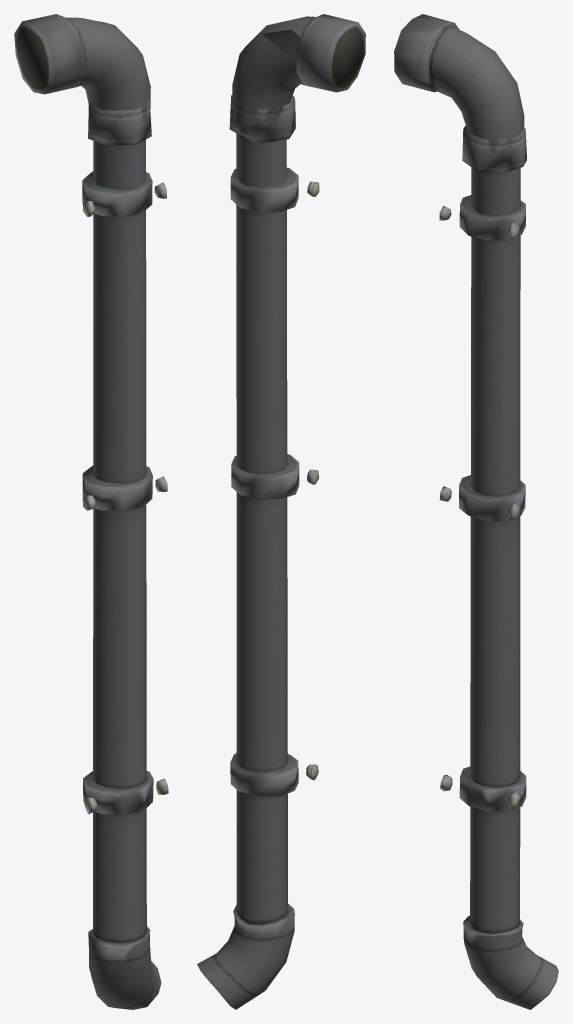
The model's file is rain-downpipe.glb.
3 renders of one model, left to right at view 1: azimuth 30°, elevation 25°; view 2: azimuth 150°, elevation 25°; view 3: azimuth 330°, elevation 25°, orthographic. The views are drawn at different scales.
Visible parts, largest first — view 1: meshy-rain-downpipe; view 2: meshy-rain-downpipe; view 3: meshy-rain-downpipe.
Boxes of the visible parts, box(x1,y1,x2,y2) form: meshy-rain-downpipe: box(14, 14, 168, 1009); meshy-rain-downpipe: box(197, 14, 365, 1009); meshy-rain-downpipe: box(394, 14, 558, 1009).
Size of the model in its own units: 0.5872 by 4.1 by 0.3549.
Materials: 1 (1 with a texture image).
